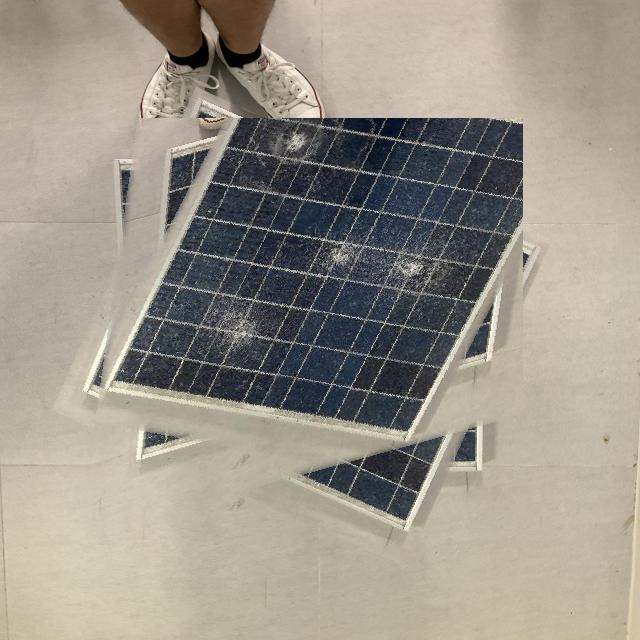Photovoltaic-Panel: (79, 118, 523, 536)
